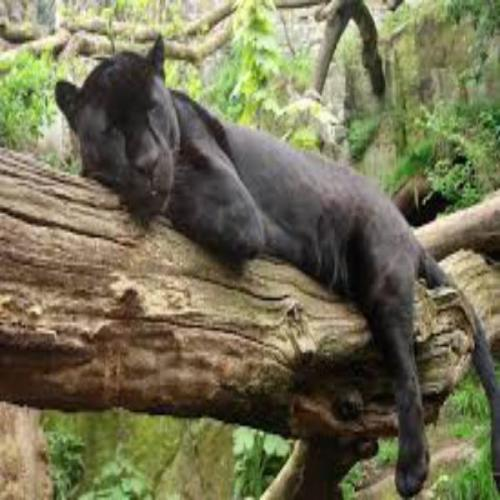panther-endangered: (55, 36, 500, 498)
